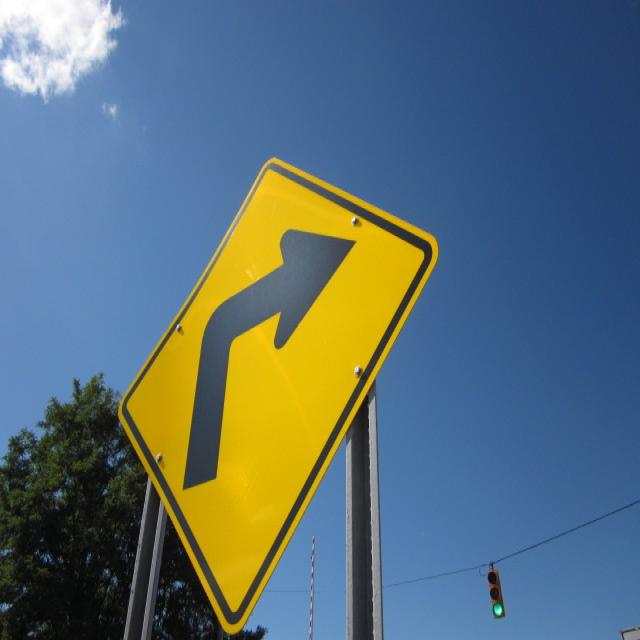warning: (110, 152, 441, 638)
